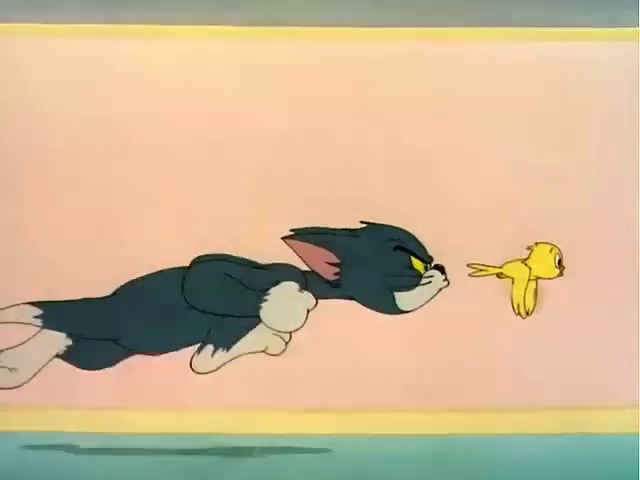tom: (2, 192, 462, 439)
